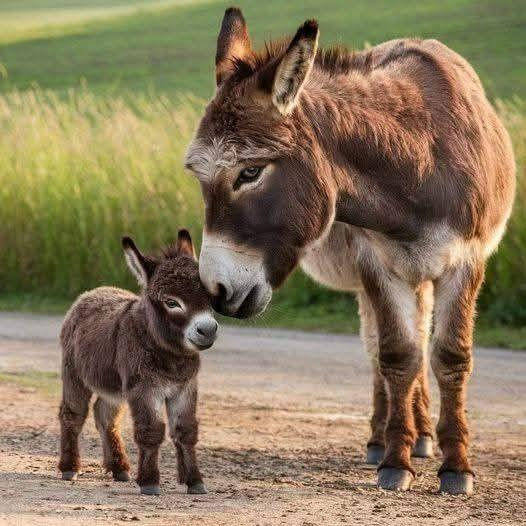donkey: (59, 230, 216, 493)
horse: (186, 8, 514, 493)
